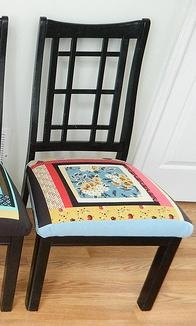obstacle: (23, 17, 192, 310)
